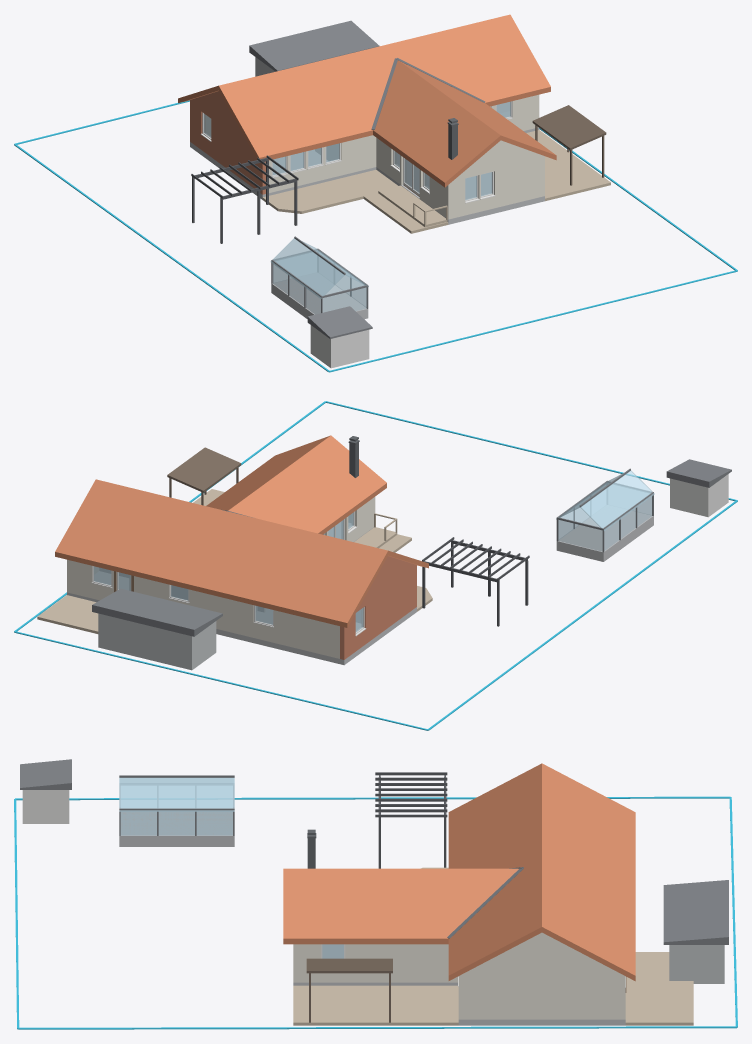
File: Barkgatan3_none.glb
3 renders of one model, top to bottom at view 1: azimuth 30°, elevation 25°; view 2: azimuth 150°, elevation 25°; view 3: azimuth 270°, elevation 25°, orthographic. The views are drawn at different scales.
Visible parts, largest first — view 1: ROOF, WALLS_EXT, DECK_WOOD, GLASS, CONTEXT_DARK, SLAB, WALLS_BRICK, LOT_LINE, PERGOLA, CANOPY, CONTEXT_WALL, WINDOW_FRAME; view 2: ROOF, WALLS_EXT, GLASS, CONTEXT_DARK, SLAB, CONTEXT_GREY, WALLS_BRICK, LOT_LINE, DECK_WOOD, PERGOLA, CANOPY, CONTEXT_WALL (+1 smaller); view 3: ROOF, WALLS_EXT, DECK_WOOD, GLASS, CONTEXT_DARK, SLAB, LOT_LINE, PERGOLA, CONTEXT_GREY, CONTEXT_WALL, CANOPY.
Part boxes in pixels (<box>): ROOF: <box>178,14,556,187</box>; WALLS_EXT: <box>205,94,544,219</box>; DECK_WOOD: <box>262,130,610,233</box>; GLASS: <box>203,101,510,314</box>; CONTEXT_DARK: <box>249,20,379,338</box>; SLAB: <box>190,111,544,319</box>; WALLS_BRICK: <box>190,91,265,194</box>; LOT_LINE: <box>14,100,737,372</box>; PERGOLA: <box>191,155,298,243</box>; CANOPY: <box>532,105,606,185</box>; CONTEXT_WALL: <box>310,325,369,368</box>; WINDOW_FRAME: <box>200,101,512,203</box>; ROOF: <box>55,435,428,627</box>; WALLS_EXT: <box>67,497,375,658</box>; GLASS: <box>93,470,654,632</box>; CONTEXT_DARK: <box>92,459,731,636</box>; SLAB: <box>67,506,653,665</box>; CONTEXT_GREY: <box>98,613,216,670</box>; WALLS_BRICK: <box>340,556,416,659</box>; LOT_LINE: <box>14,401,737,730</box>; DECK_WOOD: <box>37,489,432,633</box>; PERGOLA: <box>422,537,529,626</box>; CANOPY: <box>167,447,241,505</box>; CONTEXT_WALL: <box>670,474,728,517</box>; ROOF: <box>283,763,635,981</box>; WALLS_EXT: <box>293,932,625,1019</box>; DECK_WOOD: <box>293,867,693,1025</box>; GLASS: <box>119,777,343,958</box>; CONTEXT_DARK: <box>20,759,728,944</box>; SLAB: <box>119,812,625,1025</box>; LOT_LINE: <box>14,796,737,1029</box>; PERGOLA: <box>375,772,447,868</box>; CONTEXT_GREY: <box>669,945,724,983</box>; CONTEXT_WALL: <box>22,790,69,823</box>; CANOPY: <box>306,958,392,1022</box>.
Bounding box in the file's own units: 24.79 × 5.49 × 32.64.
